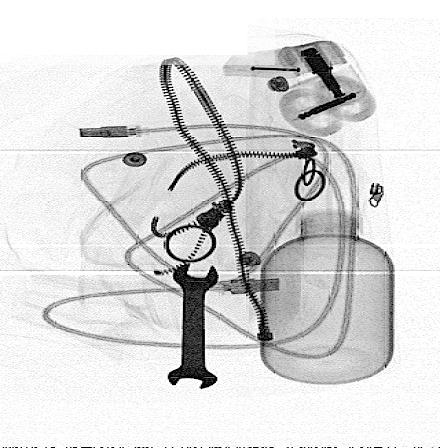Wrench: (165, 263, 222, 392)
